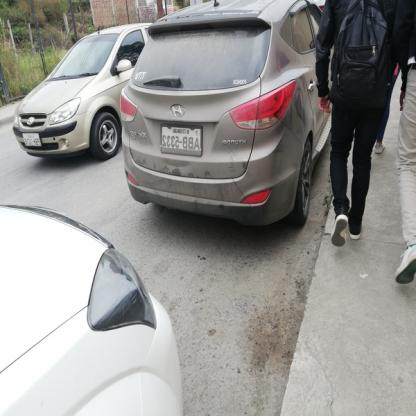Placa: (154, 122, 207, 161), (20, 131, 43, 152)
